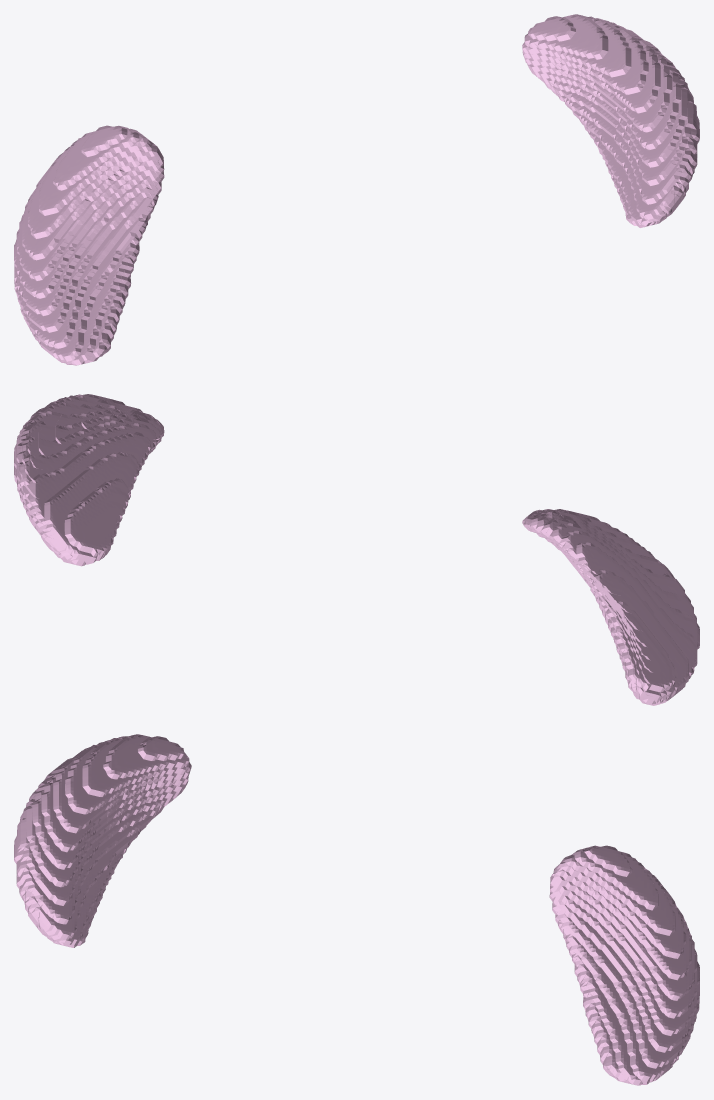
File: VFB_00102110.glb
3 renders of one model, top to bottom at view 1: azimuth 30°, elevation 25°; view 2: azimuth 150°, elevation 25°; view 3: azimuth 330°, elevation 25°, orthographic.
Visible parts, largest first — view 1: VFB_00102110; view 2: VFB_00102110; view 3: VFB_00102110.
Boxes of the visible parts, x1,y1,x2,y2 form: VFB_00102110: (14,14,699,365); VFB_00102110: (14,394,699,705); VFB_00102110: (14,734,699,1085).
Size of the model in its own units: 0.4903 by 0.1374 by 0.0589.
